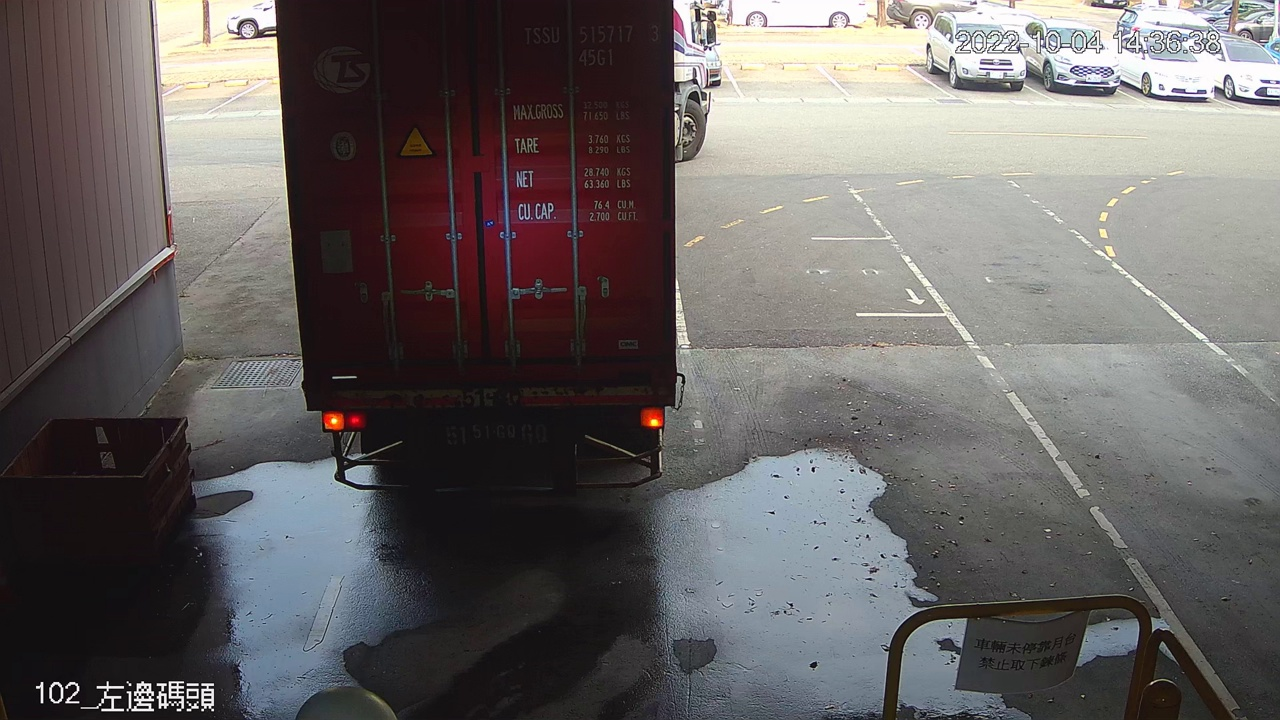container: (518, 17, 667, 73)
